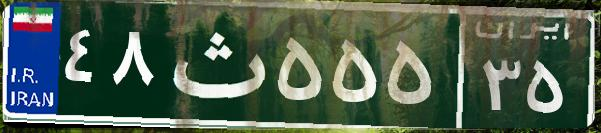3: (475, 38, 525, 113)
4: (57, 26, 110, 107)
5: (385, 28, 445, 110), (273, 28, 330, 110), (330, 28, 385, 110), (525, 38, 570, 115)
8: (110, 28, 158, 105)
ث: (158, 15, 273, 115)
